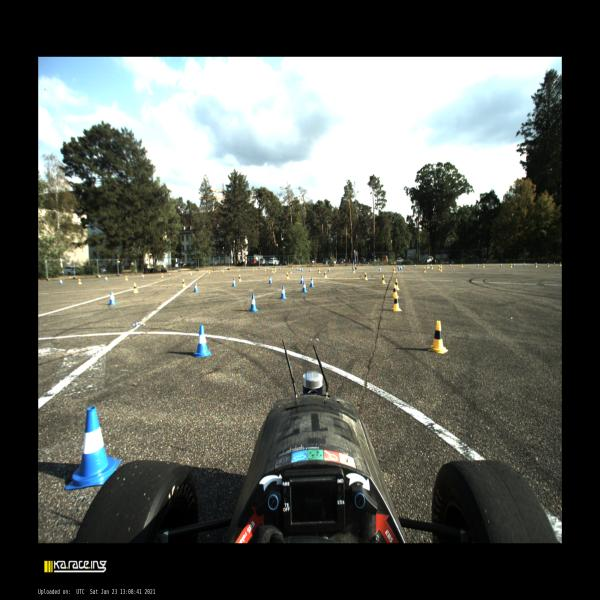blue_cone: (65, 407, 121, 490), (194, 325, 211, 357), (250, 294, 258, 311), (108, 291, 117, 305), (280, 286, 286, 299), (302, 281, 307, 292), (194, 282, 198, 292), (232, 278, 236, 287), (310, 278, 314, 287), (268, 276, 272, 284), (300, 275, 304, 283), (400, 266, 403, 270), (328, 267, 330, 272), (60, 279, 62, 284), (309, 268, 311, 272), (378, 267, 380, 271), (398, 267, 400, 271), (291, 266, 293, 270), (301, 268, 303, 271), (414, 264, 416, 267), (105, 277, 107, 280), (142, 275, 144, 278), (500, 264, 502, 266), (477, 264, 479, 266), (403, 264, 404, 268), (298, 268, 300, 270), (169, 272, 170, 276), (189, 272, 191, 274), (206, 270, 208, 272), (239, 268, 240, 272), (450, 264, 451, 267), (296, 267, 297, 270), (221, 269, 222, 272), (554, 262, 554, 265), (524, 263, 524, 266), (514, 264, 514, 266), (300, 268, 300, 270), (280, 267, 280, 270), (256, 268, 256, 270), (268, 268, 268, 270)
yellow_cone: (429, 321, 448, 353), (392, 295, 402, 311), (392, 284, 398, 296), (133, 283, 138, 293), (395, 278, 399, 290), (182, 279, 186, 287), (364, 272, 368, 280), (382, 274, 385, 284), (238, 274, 241, 282), (286, 272, 289, 279), (324, 271, 327, 278), (78, 279, 82, 284), (423, 267, 426, 273), (352, 268, 355, 273), (393, 267, 395, 273), (440, 266, 442, 272), (290, 268, 292, 274), (125, 276, 128, 280), (318, 268, 320, 273), (208, 270, 210, 274), (274, 268, 276, 272), (431, 265, 433, 269), (428, 264, 430, 268), (461, 264, 463, 268), (510, 264, 512, 268), (547, 263, 549, 267), (535, 264, 537, 267), (162, 274, 163, 278), (273, 269, 274, 273), (265, 267, 266, 271), (427, 265, 428, 269), (439, 266, 440, 270), (560, 262, 561, 266), (191, 272, 192, 275), (441, 264, 442, 267), (483, 264, 484, 267), (223, 270, 224, 272), (253, 268, 254, 270), (238, 268, 238, 272), (272, 268, 272, 272)
